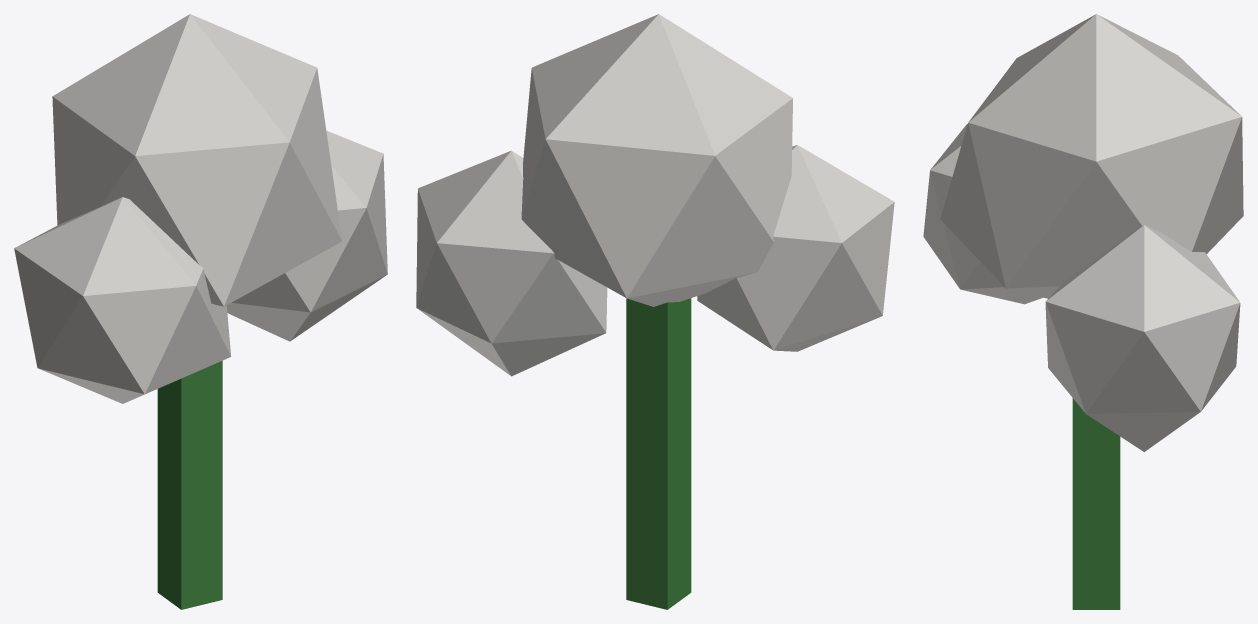
Rendered from cotton.fbx.
The picture shows the model from 3 angles, left to right: view 1: azimuth 30°, elevation 25°; view 2: azimuth 150°, elevation 25°; view 3: azimuth 270°, elevation 25°; orthographic projection.
Parts seen in each view (by area): view 1: cotton; view 2: cotton; view 3: cotton.
Boxes of the visible parts, box(x1,y1,x2,y2) form: cotton: box(14, 14, 387, 609); cotton: box(416, 14, 894, 609); cotton: box(923, 14, 1243, 609).
Size of the model in its own units: 0.5908 by 0.8105 by 0.4014.
